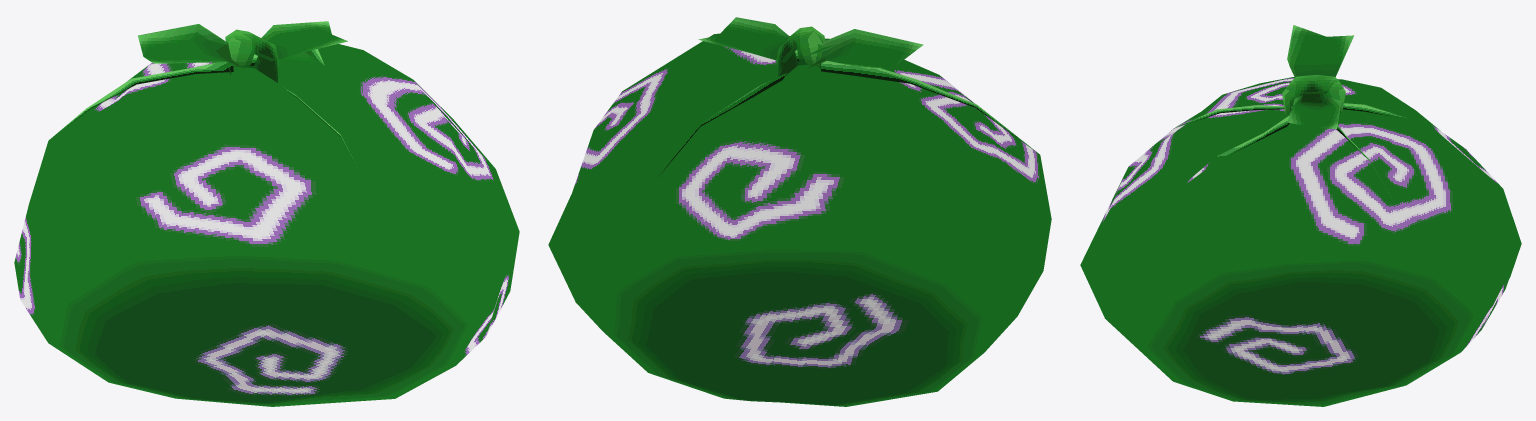
Rendered from ps2_save-icons_pachittechonmagetatsujin13.glb.
3 renders of one model, left to right at view 1: azimuth 30°, elevation 25°; view 2: azimuth 150°, elevation 25°; view 3: azimuth 270°, elevation 25°, orthographic. The views are drawn at different scales.
Parts seen in each view (by area): view 1: view.ico; view 2: view.ico; view 3: view.ico.
Part boxes in pixels (left/top/right/bottom): view.ico: left=14, top=21, right=519, bottom=406; view.ico: left=548, top=17, right=1051, bottom=406; view.ico: left=1080, top=25, right=1521, bottom=406.
Bounding box in the file's own units: 3.7 × 2.67 × 3.85.
1 material, 1 textured.
